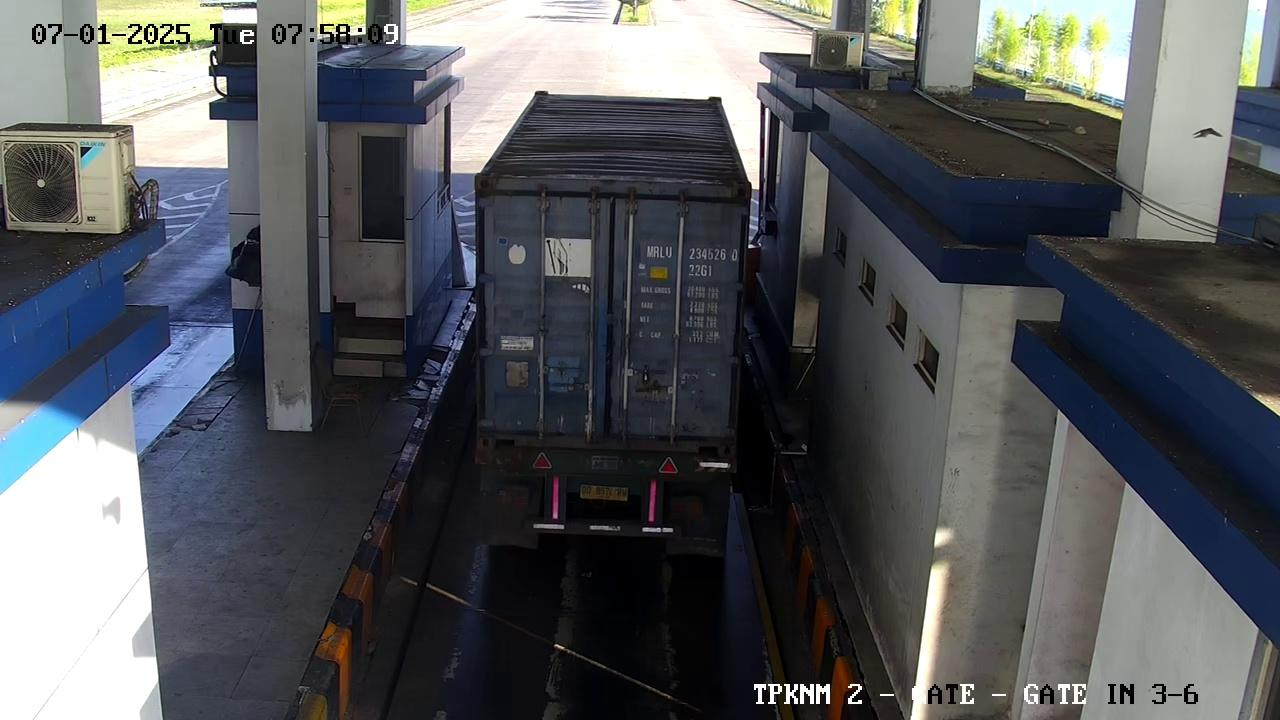Container_ID: (637, 239, 753, 265)
plate_number: (574, 472, 637, 513)
